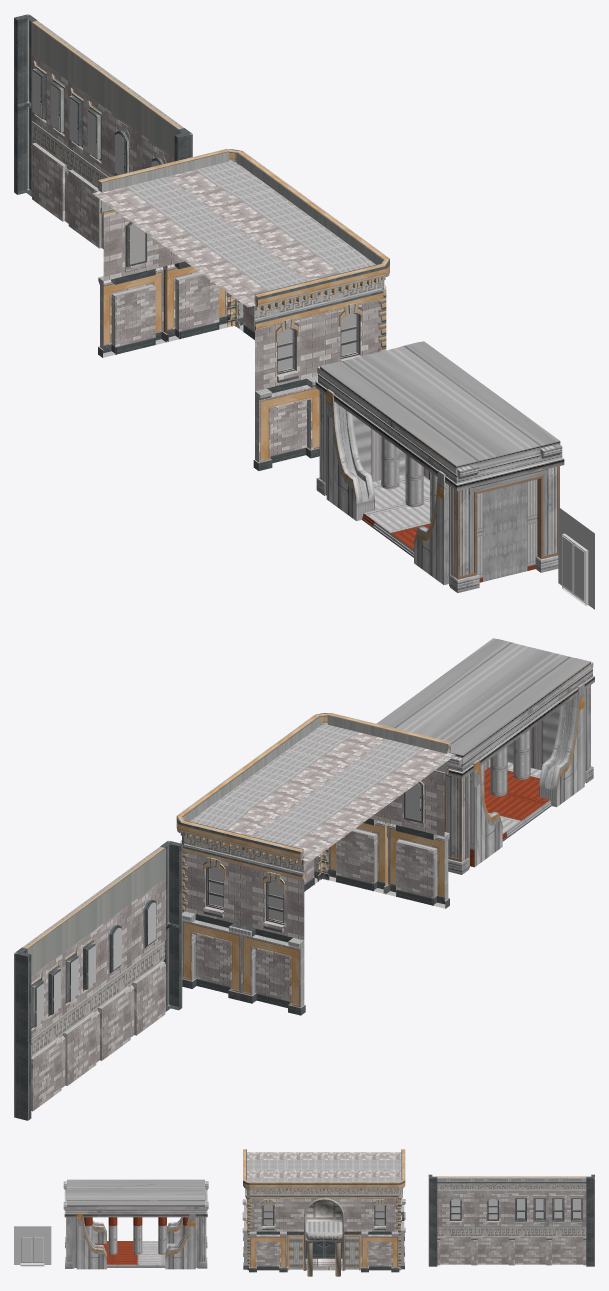
Rendered from BlockoutHouse02.fbx.
The picture shows the model from 3 angles, top to bottom: view 1: azimuth 30°, elevation 25°; view 2: azimuth 150°, elevation 25°; view 3: azimuth 270°, elevation 25°; orthographic projection. The views are drawn at different scales.
Visible parts, largest first — view 1: Break C.041, WallEmpty Down.075, EdgeCornerA.034, WallEmpty Down.063; view 2: Break C.041, EdgeCornerA.034, WallEmpty Down.075; view 3: Break C.041, EdgeCornerA.034, WallEmpty Down.075, WallEmpty Down.063.
Boxes of the visible parts, x1,y1,x2,y2 form: Break C.041: (92, 149, 389, 470); WallEmpty Down.075: (315, 341, 564, 592); EdgeCornerA.034: (14, 14, 192, 248); WallEmpty Down.063: (558, 507, 594, 609); Break C.041: (176, 713, 455, 1015); EdgeCornerA.034: (14, 840, 182, 1120); WallEmpty Down.075: (376, 638, 594, 874); Break C.041: (242, 1149, 405, 1276); EdgeCornerA.034: (428, 1174, 594, 1266); WallEmpty Down.075: (63, 1179, 208, 1269); WallEmpty Down.063: (14, 1226, 51, 1266).
Size of the model in its own units: 1193 by 1154 by 6860.
